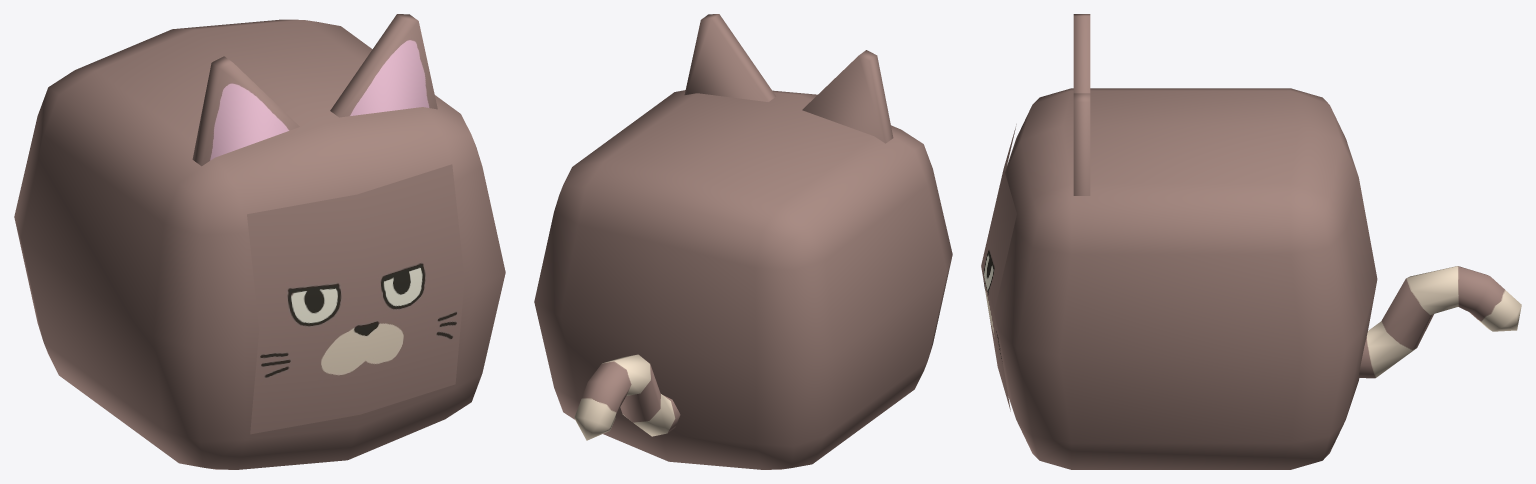
File: SM_Chonk (1).fbx
3 views of the same model, side by side, from view 1: azimuth 30°, elevation 25°; view 2: azimuth 150°, elevation 25°; view 3: azimuth 270°, elevation 25° (orthographic). The views are drawn at different scales.
Visible parts, largest first — view 1: SM_chonk_body, face, SM_chonk_ears; view 2: SM_chonk_body, SM_chonk_ears, SM_chonk_tail; view 3: SM_chonk_body, SM_chonk_tail, SM_chonk_ears, face.
Part boxes in pixels (x1,y1,x2,y2): SM_chonk_body: (14,19,505,469); face: (247,164,464,434); SM_chonk_ears: (192,14,437,166); SM_chonk_body: (534,90,952,469); SM_chonk_ears: (684,14,893,143); SM_chonk_tail: (574,354,680,440); SM_chonk_body: (994,88,1377,469); SM_chonk_tail: (1358,266,1521,378); SM_chonk_ears: (1073,14,1090,195); face: (981,124,1016,411).
Bounding box in the file's own units: 934 × 629 × 720.
